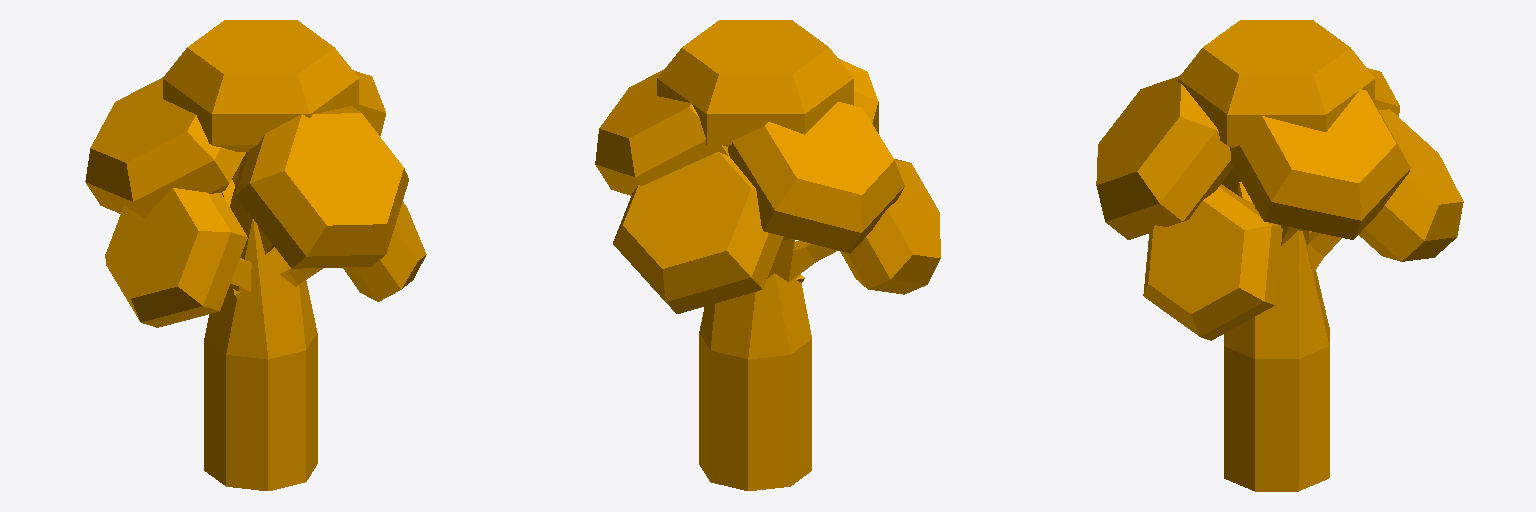
The robot description file, URDF, robot "mesh_object":
<robot name="mesh_object">
            <link name="base">
                <visual>
                    <geometry>
                        <mesh filename="broccoli_1_v000.obj" scale="1 1 1" />
                    </geometry>
                </visual>
                <collision>
                    <geometry>
                        <mesh filename="broccoli_1_v000.obj" scale="1 1 1" />
                    </geometry>
                </collision>
                <inertial>
                    <origin xyz="0.000000 0.000000 0.048409" rpy="0 0 0" />
                    <mass value="0.500000" />
                    <inertia ixx="0.01" iyy="0.01" izz="0.01" ixy="0" ixz="0" iyz="0" />
                </inertial>
            </link>
            </robot>

--- What the picture shows (computed from the rendered views, not written in the file) ---
The picture shows the robot from 3 angles, left to right: view 1: azimuth 30°, elevation 25°; view 2: azimuth 150°, elevation 25°; view 3: azimuth 270°, elevation 25°; orthographic projection.
Robot: mesh_object — 1 links, 0 joints (none); root link base; default pose: every joint at zero.
Visible links, largest first — view 1: base; view 2: base; view 3: base.
Boxes of the visible links, box(x1,y1,x2,y2) form: base: box(85, 20, 426, 490); base: box(595, 20, 940, 490); base: box(1096, 20, 1463, 491).
Bounding box of the posed robot: 0.0688 × 0.0765 × 0.0968 m (x, y, z).
Meshes: 1 distinct files referenced, 1 mesh visuals loaded (1 OBJ).
